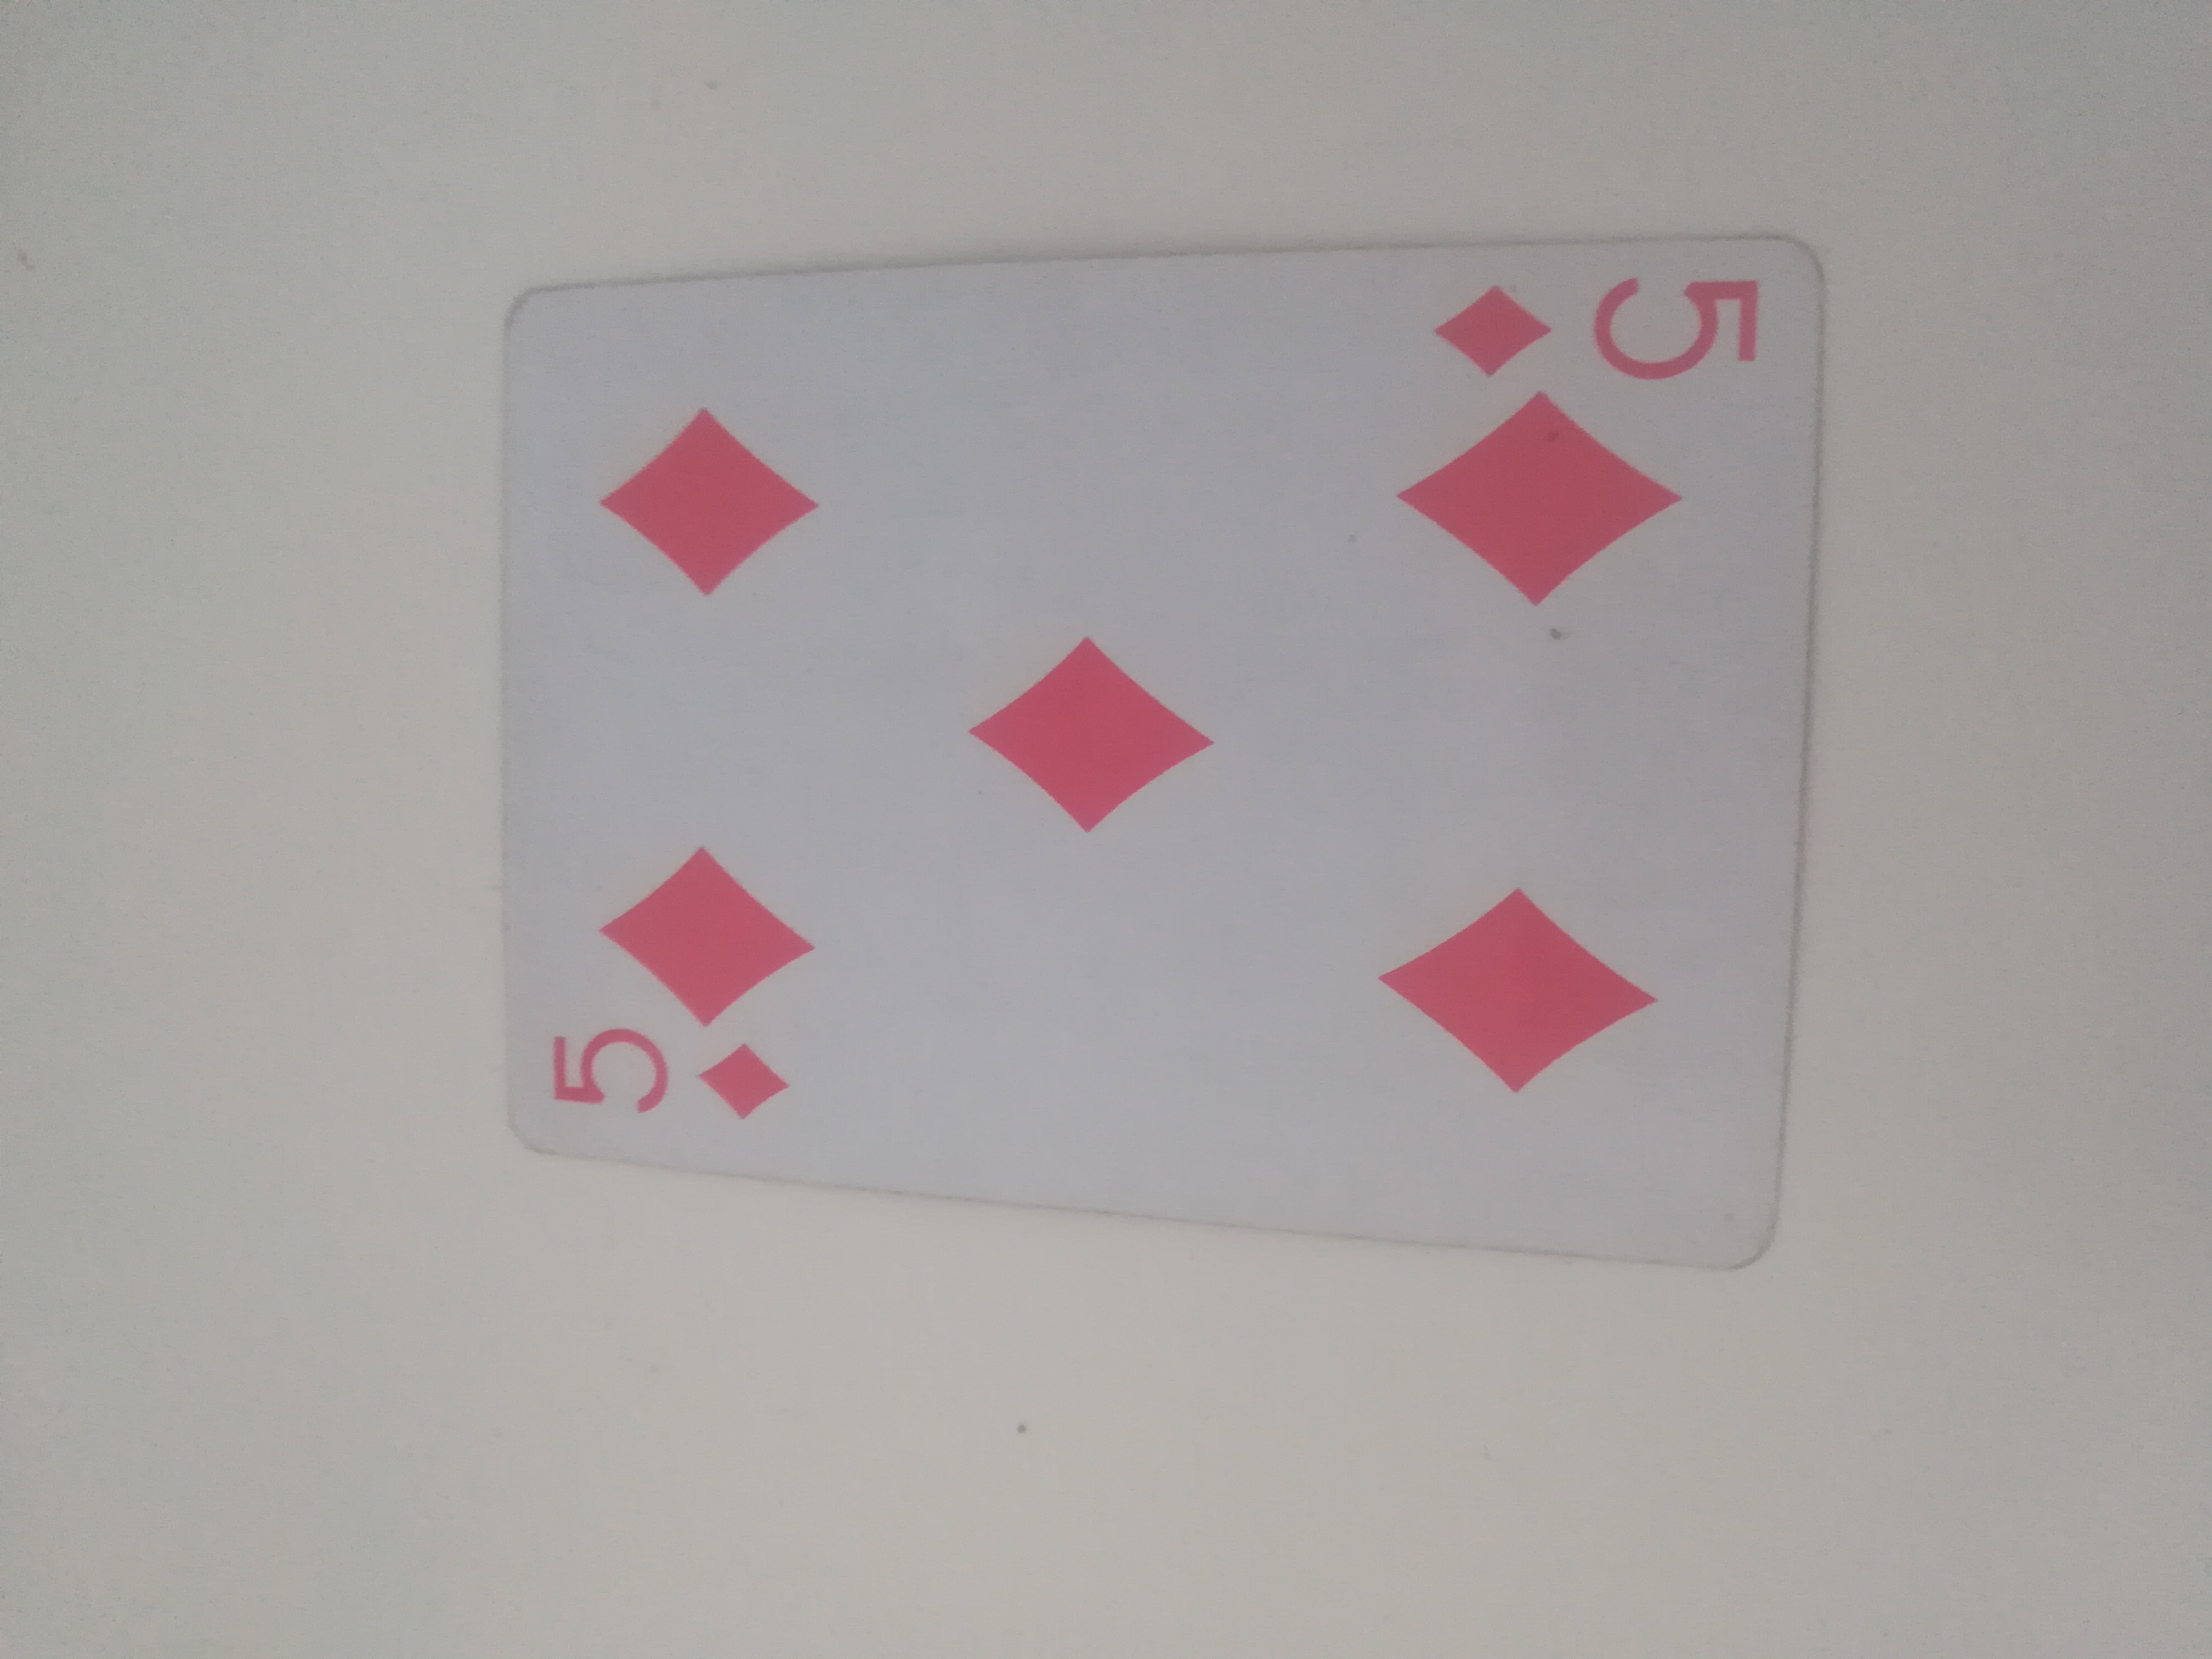5D: (481, 225, 1838, 1215)
